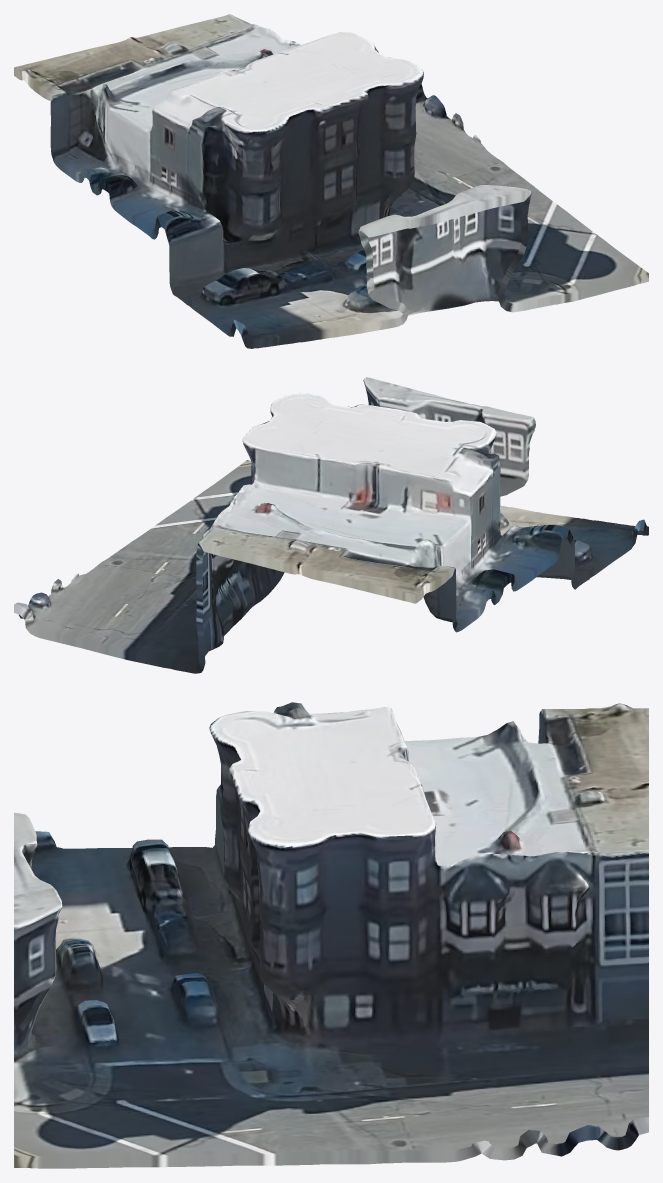
The model's file is z20-167731-405194-h0-yup-uvflip-v3-world.glb.
3 views of the same model, one above another, from view 1: azimuth 30°, elevation 25°; view 2: azimuth 150°, elevation 25°; view 3: azimuth 270°, elevation 25° (orthographic). The views are drawn at different scales.
Size of the model in its own units: 30.16 by 12.68 by 30.32.
1 material, 1 textured.
